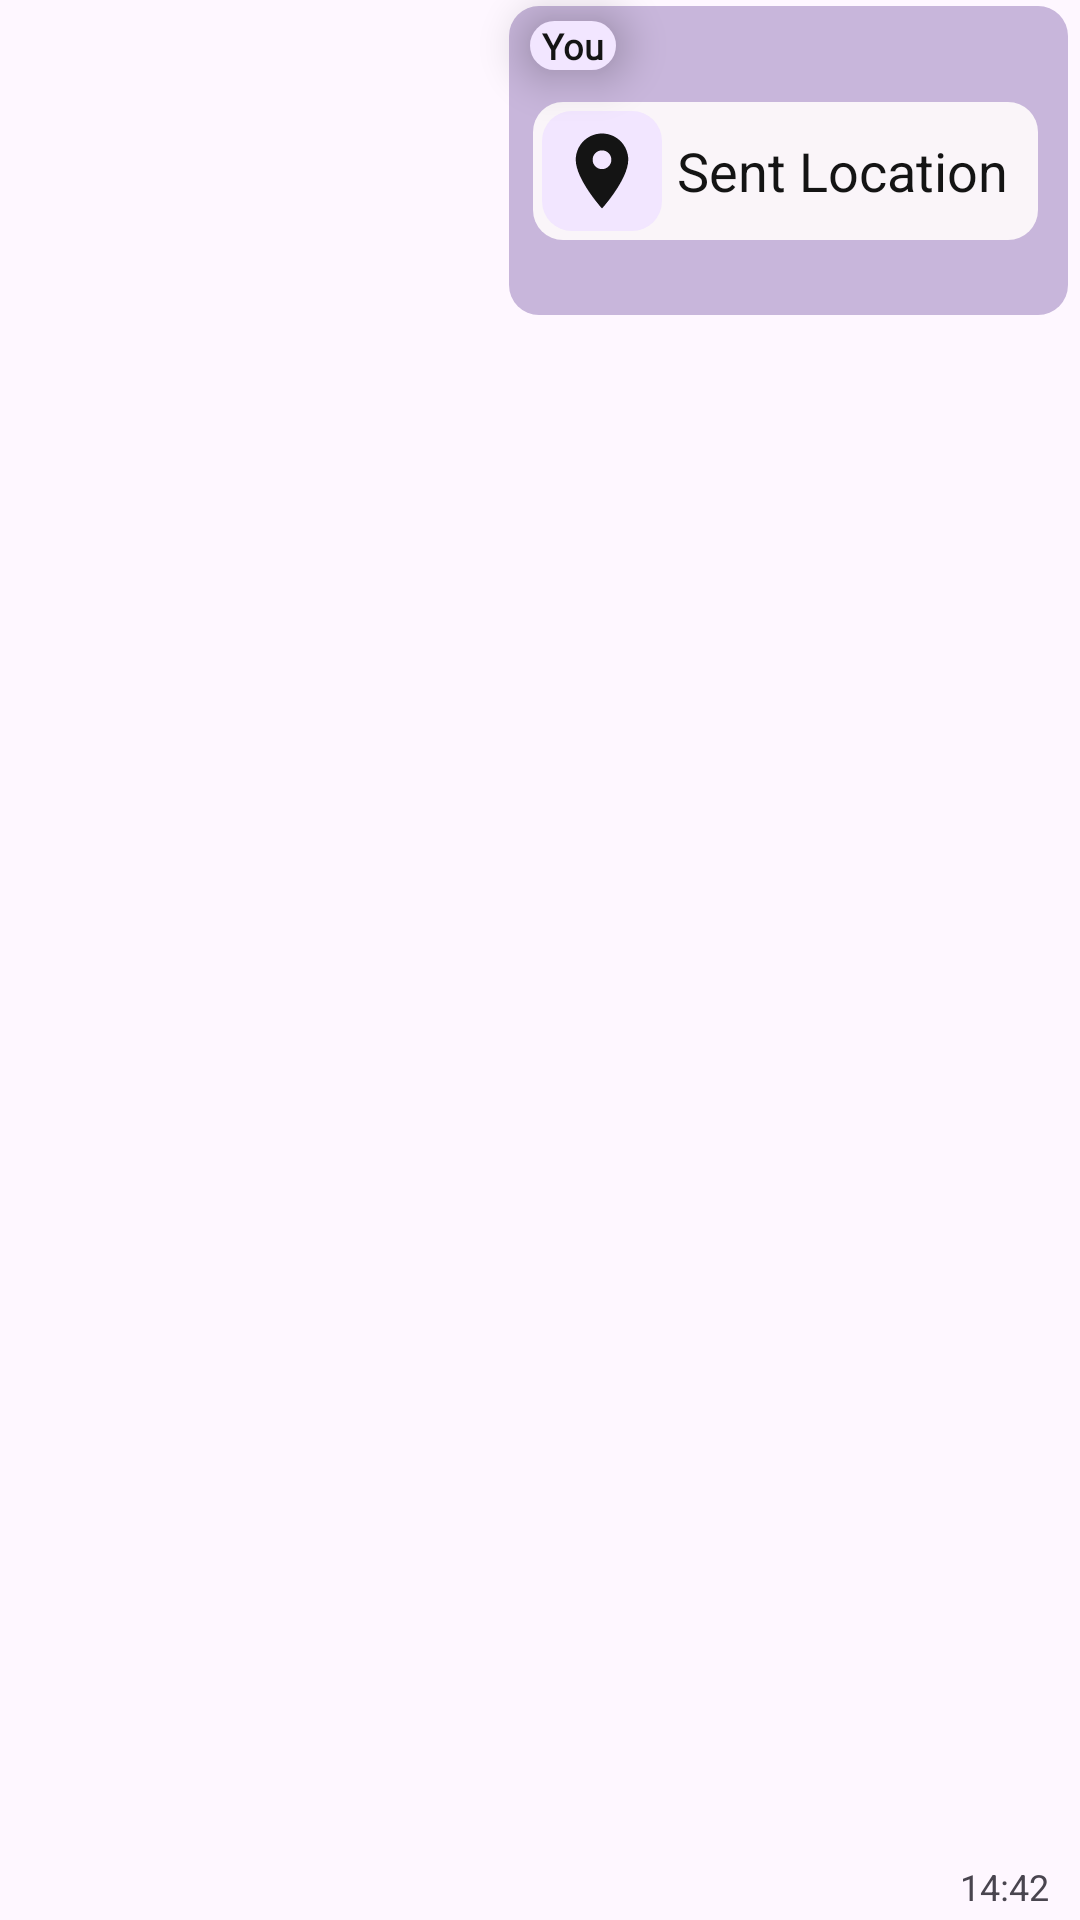

Named icons in this screenshot (1080x1920) and their centers, [x,y]:
location on: [602,171]
